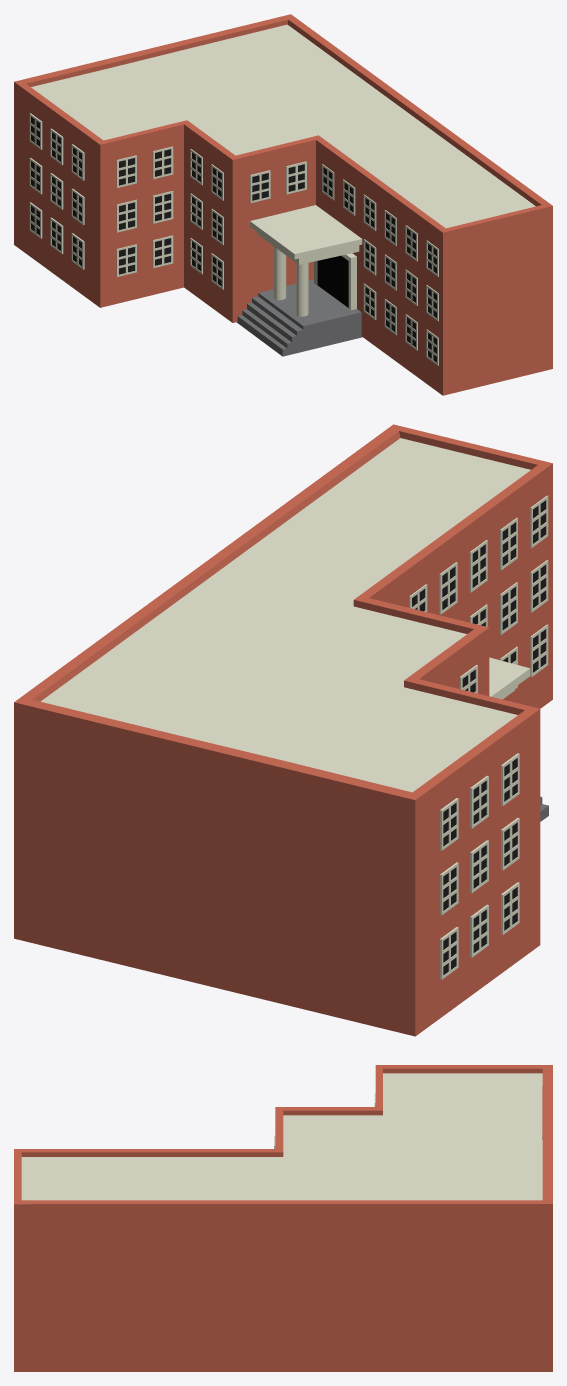
File: Willson Hall.fbx
The picture shows the model from 3 angles, top to bottom: view 1: azimuth 30°, elevation 25°; view 2: azimuth 150°, elevation 25°; view 3: azimuth 270°, elevation 25°; orthographic projection. The views are drawn at different scales.
Visible parts, largest first — view 1: Willson Hall; view 2: Willson Hall; view 3: Willson Hall.
Boxes of the visible parts, <box> form: Willson Hall: <box>14,14,552,395</box>; Willson Hall: <box>14,424,552,1036</box>; Willson Hall: <box>14,1065,552,1371</box>.
Size of the model in its own units: 185 by 105 by 302.
